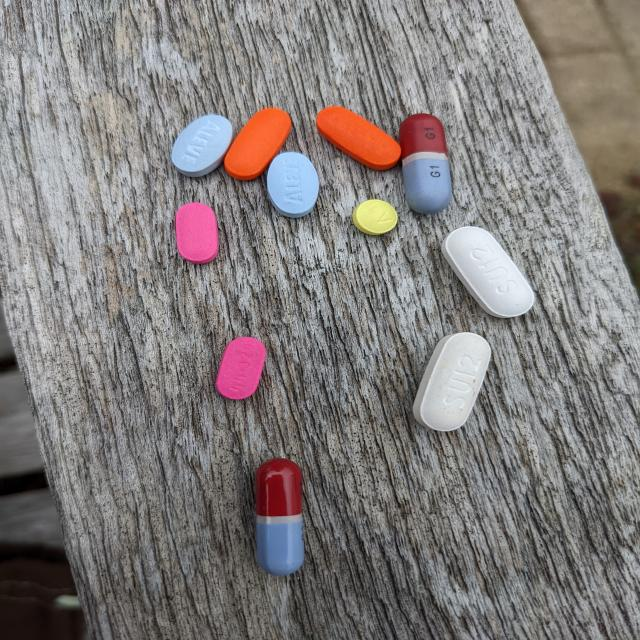non-organic waste: (440, 225, 536, 320), (411, 332, 493, 432), (252, 457, 307, 577), (397, 112, 453, 215), (315, 106, 402, 172), (223, 106, 293, 180), (170, 114, 234, 178), (265, 152, 322, 219), (213, 336, 268, 400), (174, 202, 220, 264), (350, 199, 400, 236)
